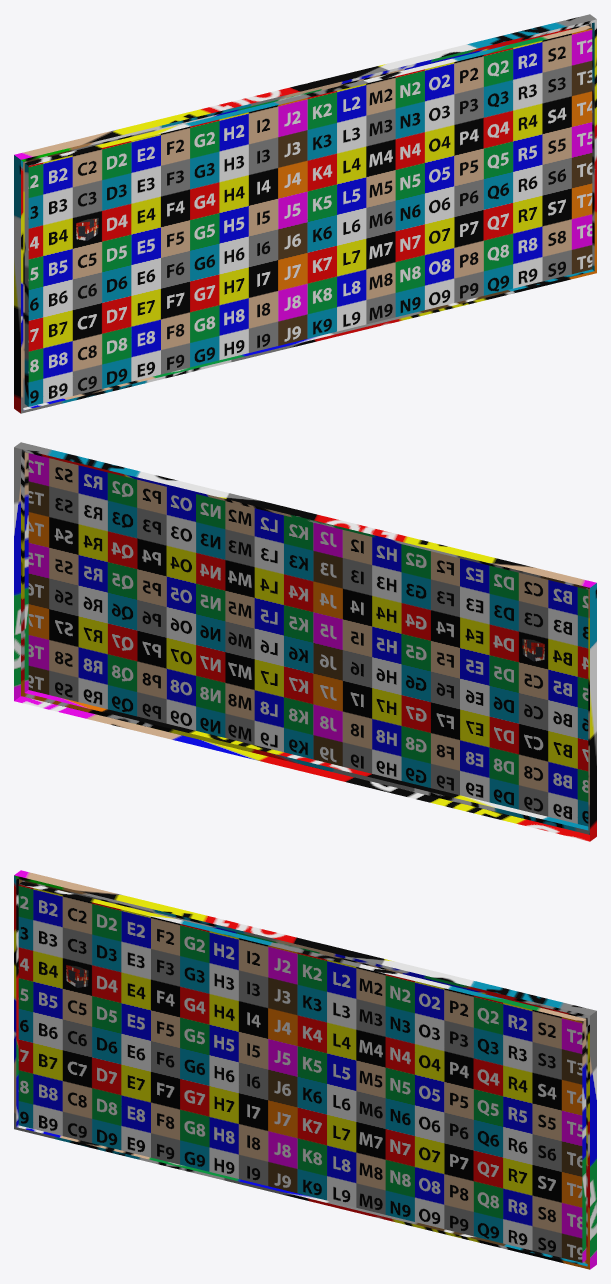
Rendered from pictureframe4.FBX.
3 renders of one model, top to bottom at view 1: azimuth 30°, elevation 25°; view 2: azimuth 150°, elevation 25°; view 3: azimuth 330°, elevation 25°, orthographic.
Visible parts, largest first — view 1: pictureframe4; view 2: pictureframe4; view 3: pictureframe4.
Part boxes in pixels (bbox=[...]): pictureframe4: bbox=[14, 14, 596, 413]; pictureframe4: bbox=[14, 442, 596, 841]; pictureframe4: bbox=[14, 870, 596, 1269].
Bounding box in the file's own units: 4.3 × 1.81 × 0.1094.
Materials: 1 (1 with a texture image).
